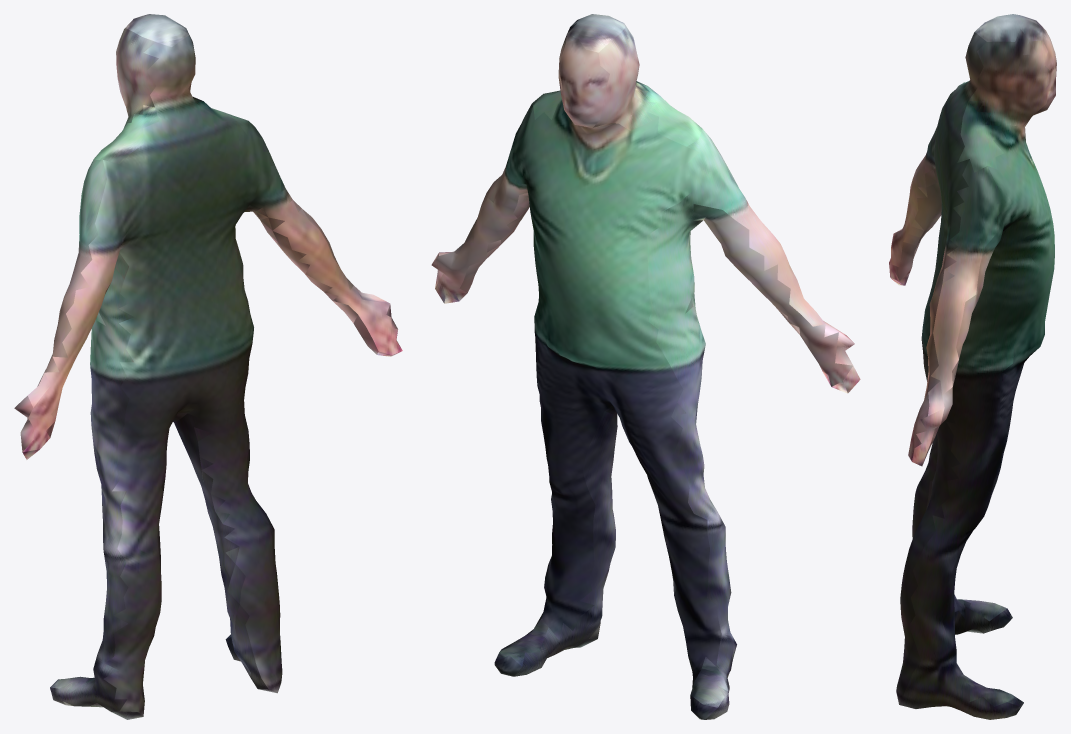
The picture shows the model from 3 angles, left to right: view 1: azimuth 30°, elevation 25°; view 2: azimuth 150°, elevation 25°; view 3: azimuth 270°, elevation 25°; orthographic projection. The views are drawn at different scales.
Parts seen in each view (by area): view 1: world; view 2: world; view 3: world.
Boxes of the visible parts, x1,y1,x2,y2 form: world: [14, 14, 402, 719]; world: [431, 14, 860, 719]; world: [889, 14, 1056, 719].
Bounding box in the file's own units: 0.6335 × 1 × 0.2331.
Materials: 1 (1 with a texture image).
